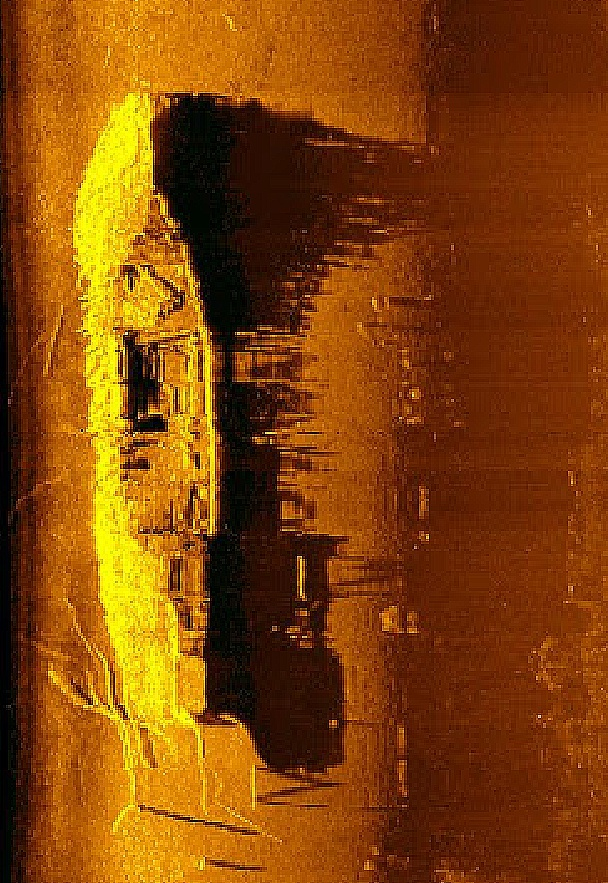ship: (69, 88, 222, 728)
